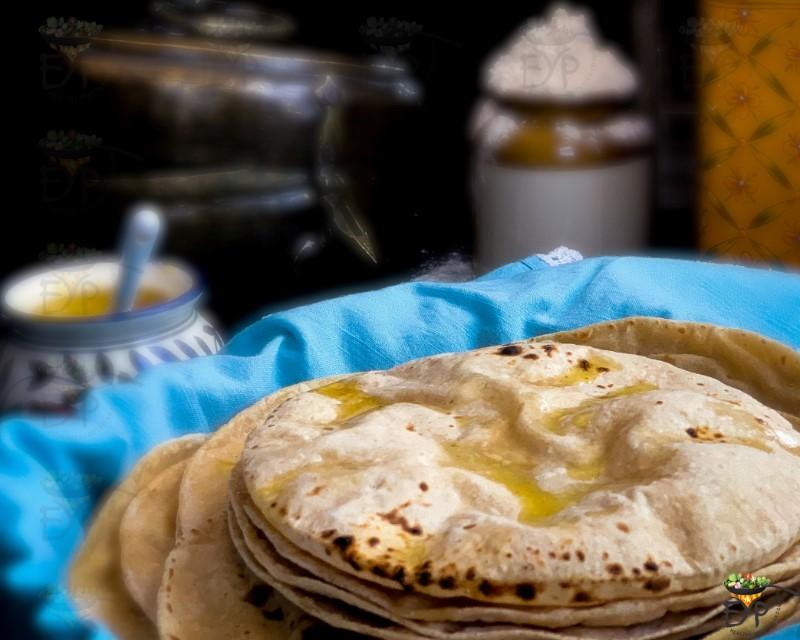chapati: (233, 341, 800, 623)
